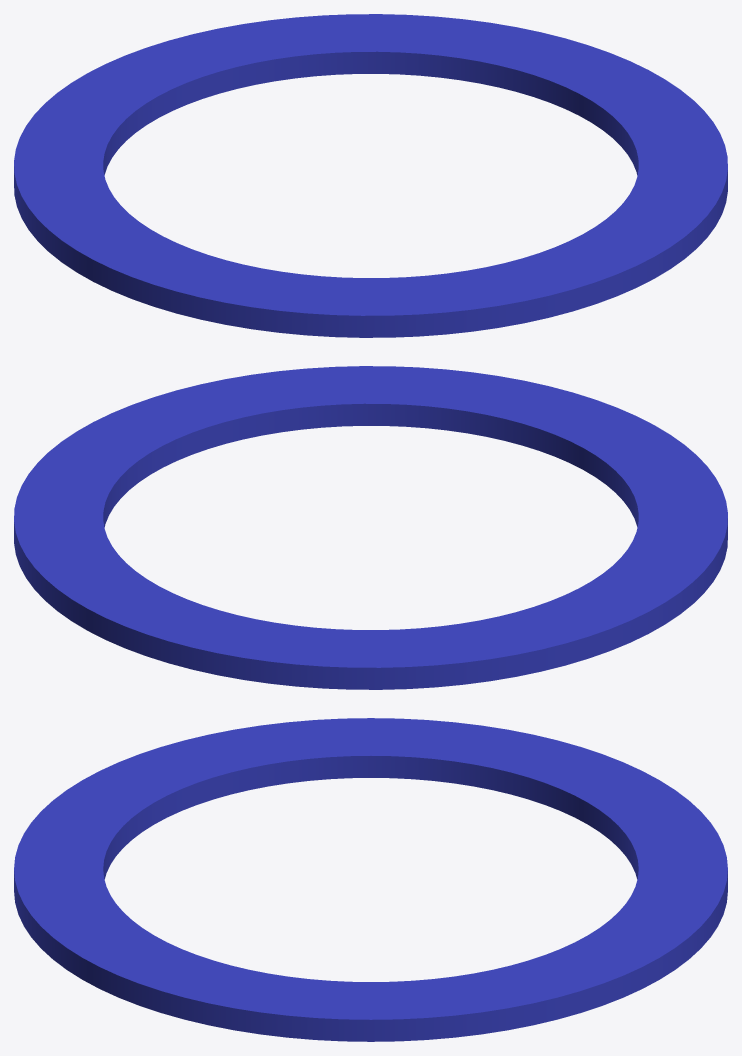
Rendered from marker.fbx.
3 renders of one model, top to bottom at view 1: azimuth 30°, elevation 25°; view 2: azimuth 150°, elevation 25°; view 3: azimuth 270°, elevation 25°, orthographic.
Parts seen in each view (by area): view 1: root; view 2: root; view 3: root.
Part boxes in pixels (left/top/right/bottom): root: left=14, top=14, right=727, bottom=337; root: left=14, top=366, right=727, bottom=689; root: left=14, top=718, right=727, bottom=1041.
Bounding box in the file's own units: 1.04 × 0.0354 × 1.04.
